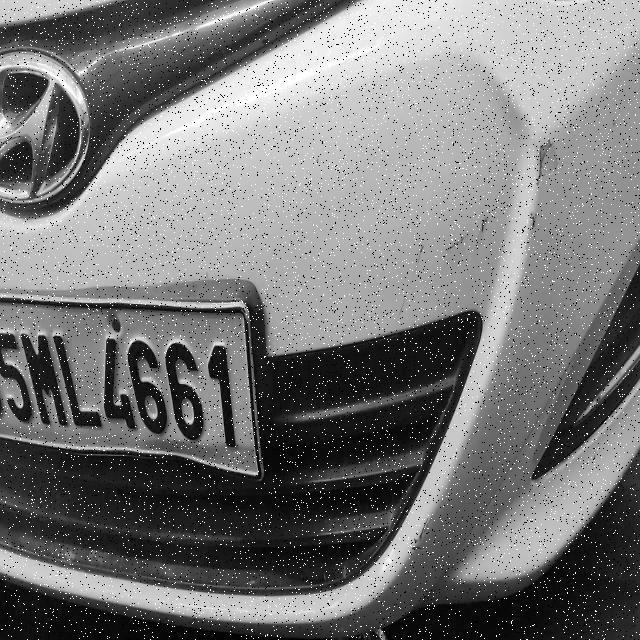front-bumper-dent: (265, 0, 640, 630)
